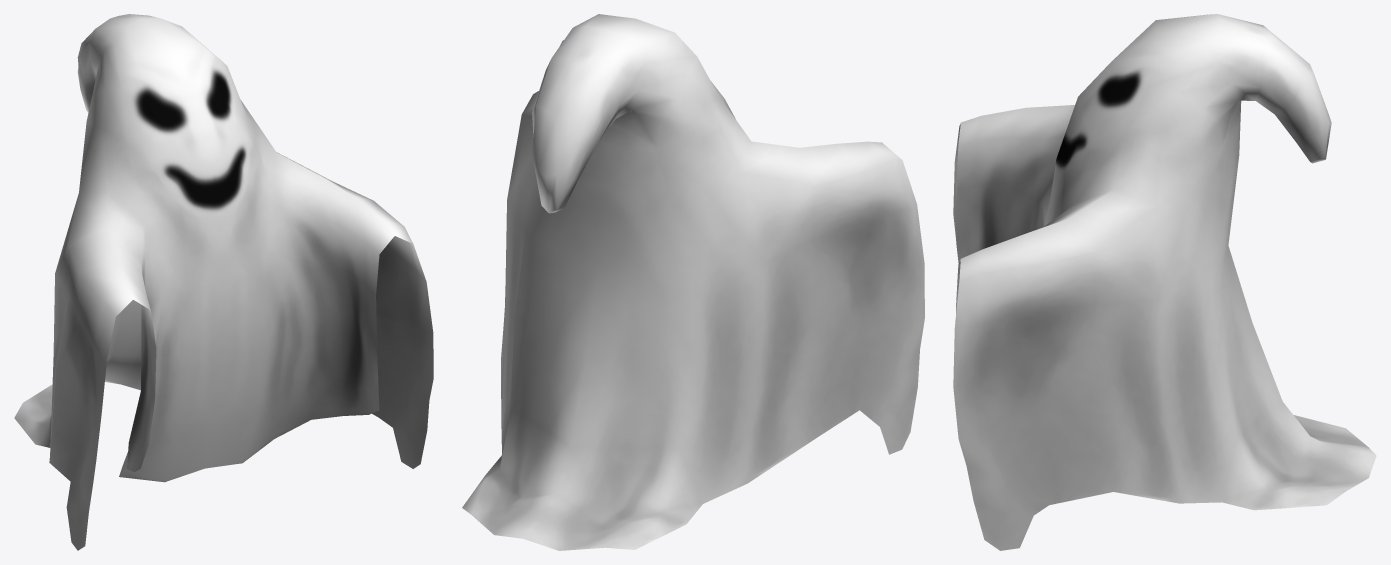
Rendered from ghost.fbx.
3 renders of one model, left to right at view 1: azimuth 30°, elevation 25°; view 2: azimuth 150°, elevation 25°; view 3: azimuth 270°, elevation 25°, orthographic. The views are drawn at different scales.
Visible parts, largest first — view 1: ghost; view 2: ghost; view 3: ghost.
Part boxes in pixels (<box>): ghost: <box>14,14,433,550</box>; ghost: <box>462,14,924,550</box>; ghost: <box>953,14,1376,550</box>.
Size of the model in its own units: 2.66 by 3.12 by 2.7.
